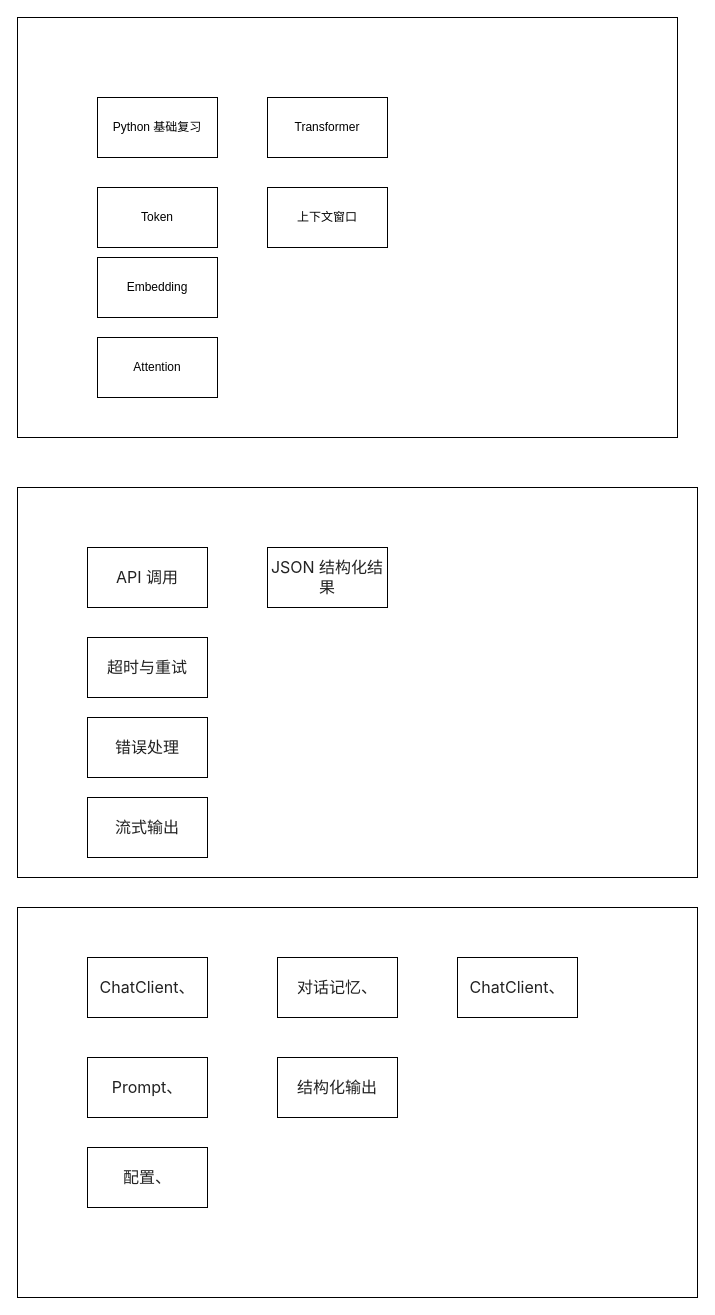
The diagram is 715 pixels wide and 1315 high, and some of its shapes have lost their labels. The shapes that lost their labels are listed below. From the top down, each one's box as (x1, y1, x2, y2) in pixels, then its label:
(16, 16, 678, 438): AI 基础
(16, 486, 698, 878): 模型 API
(16, 906, 698, 1298): Spring AI 入门
